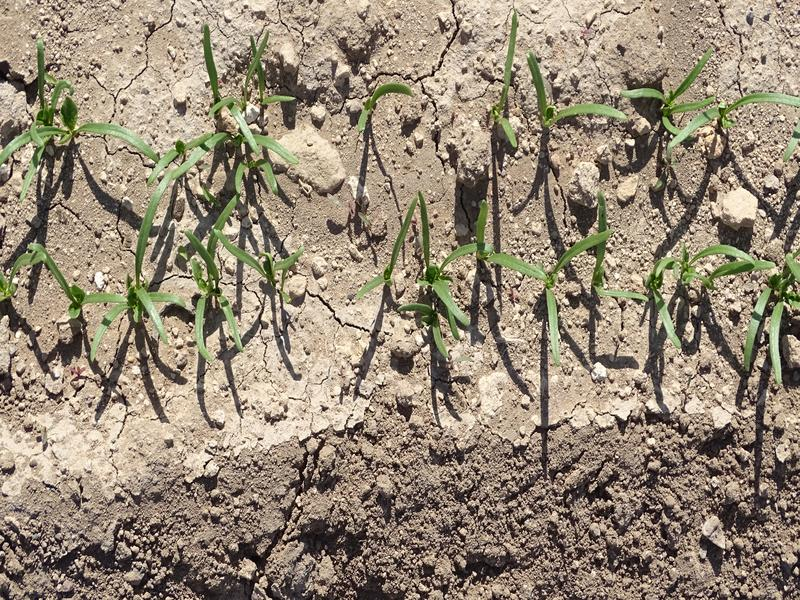Espinaca: (7, 44, 402, 194), (4, 209, 300, 363), (388, 209, 631, 359), (479, 41, 797, 142), (631, 242, 798, 371)
